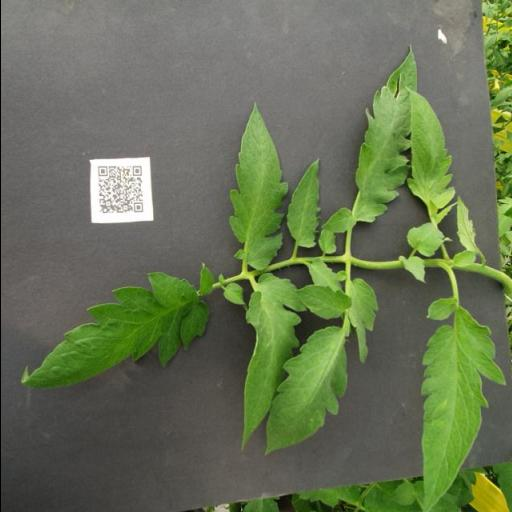Healthy: (16, 270, 207, 390), (420, 297, 506, 512), (240, 272, 306, 451), (354, 44, 416, 223), (262, 326, 347, 456), (226, 102, 288, 270), (404, 84, 458, 230), (285, 158, 320, 248)
